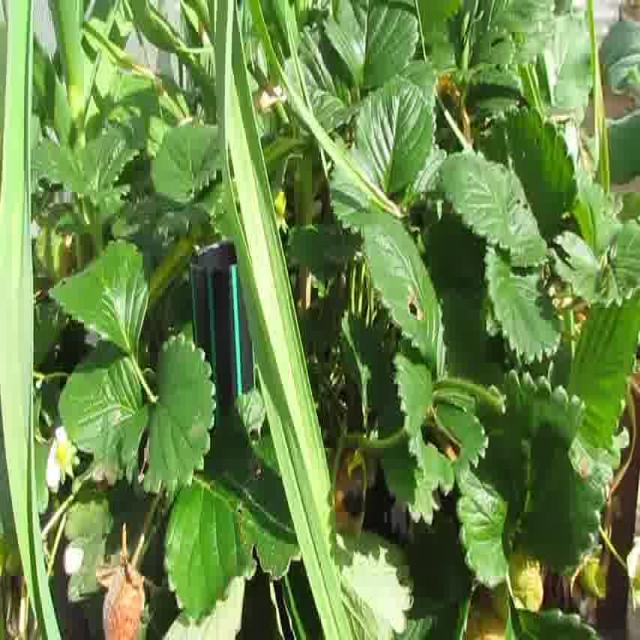Moho gris: (91, 550, 149, 640)
